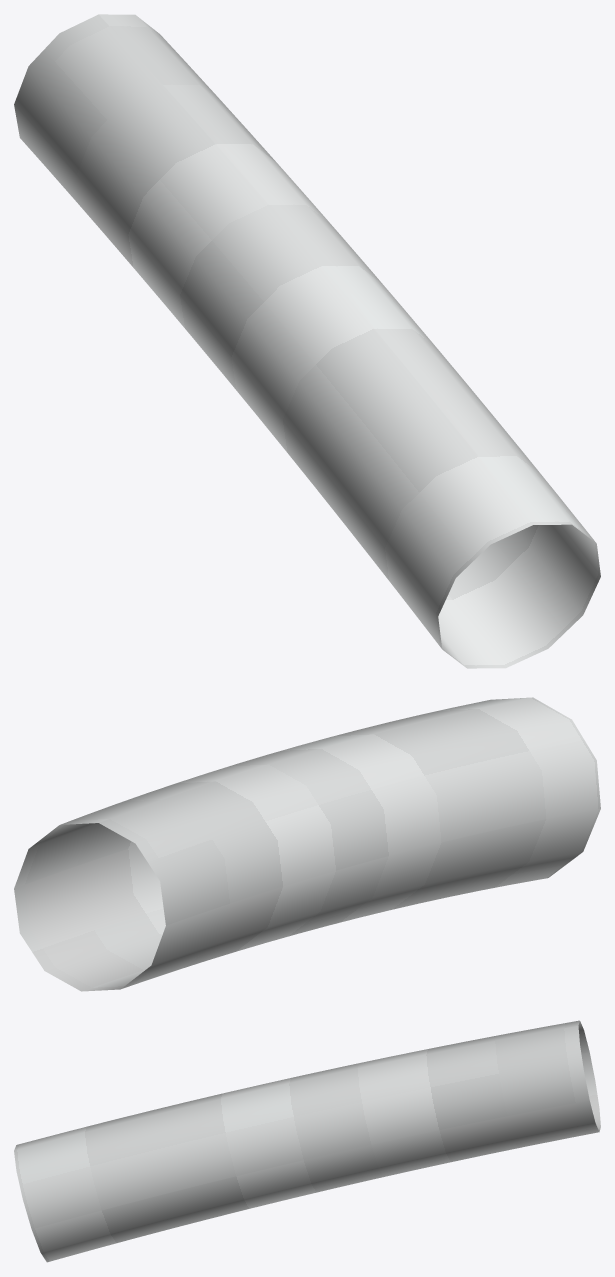
The model's file is luminairearm_caltrans15ftdouble_c4.obj.
3 renders of one model, top to bottom at view 1: azimuth 30°, elevation 25°; view 2: azimuth 150°, elevation 25°; view 3: azimuth 270°, elevation 25°, orthographic. The views are drawn at different scales.
Visible parts, largest first — view 1: luminairearm_caltrans15ftdouble_c4; view 2: luminairearm_caltrans15ftdouble_c4; view 3: luminairearm_caltrans15ftdouble_c4.
Part boxes in pixels (x1=…): luminairearm_caltrans15ftdouble_c4: x1=14, y1=14, x2=600, y2=668; luminairearm_caltrans15ftdouble_c4: x1=14, y1=697, x2=600, y2=991; luminairearm_caltrans15ftdouble_c4: x1=14, y1=1020, x2=600, y2=1262.
Size of the model in its own units: 0.2188 by 0.4567 by 1.05.
